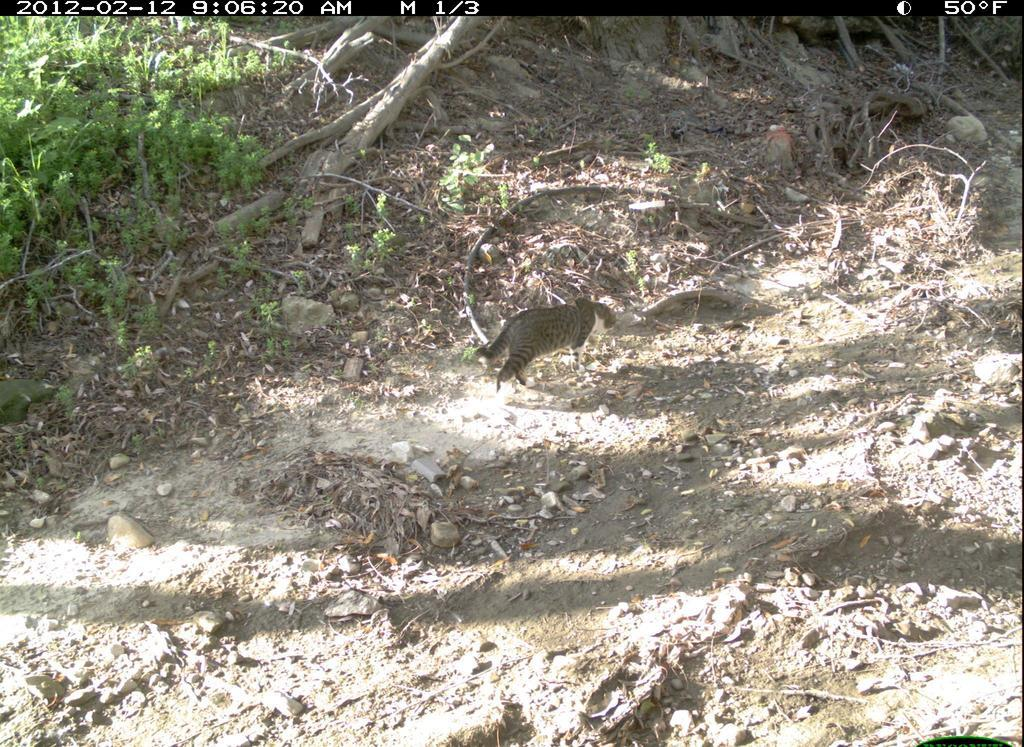cat: (469, 295, 639, 402)
